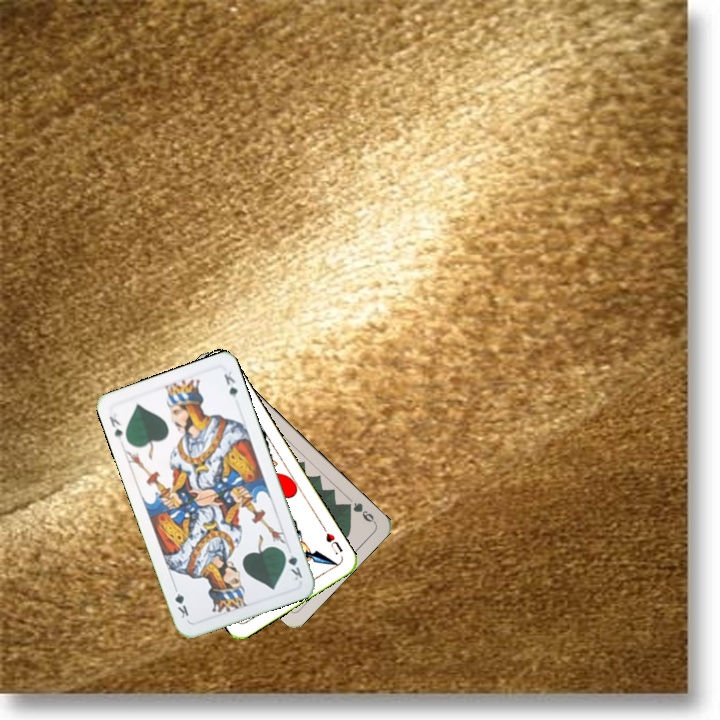G9: (341, 498, 378, 526)
GK: (279, 546, 305, 583), (105, 412, 125, 443)
HU: (319, 523, 345, 557)
